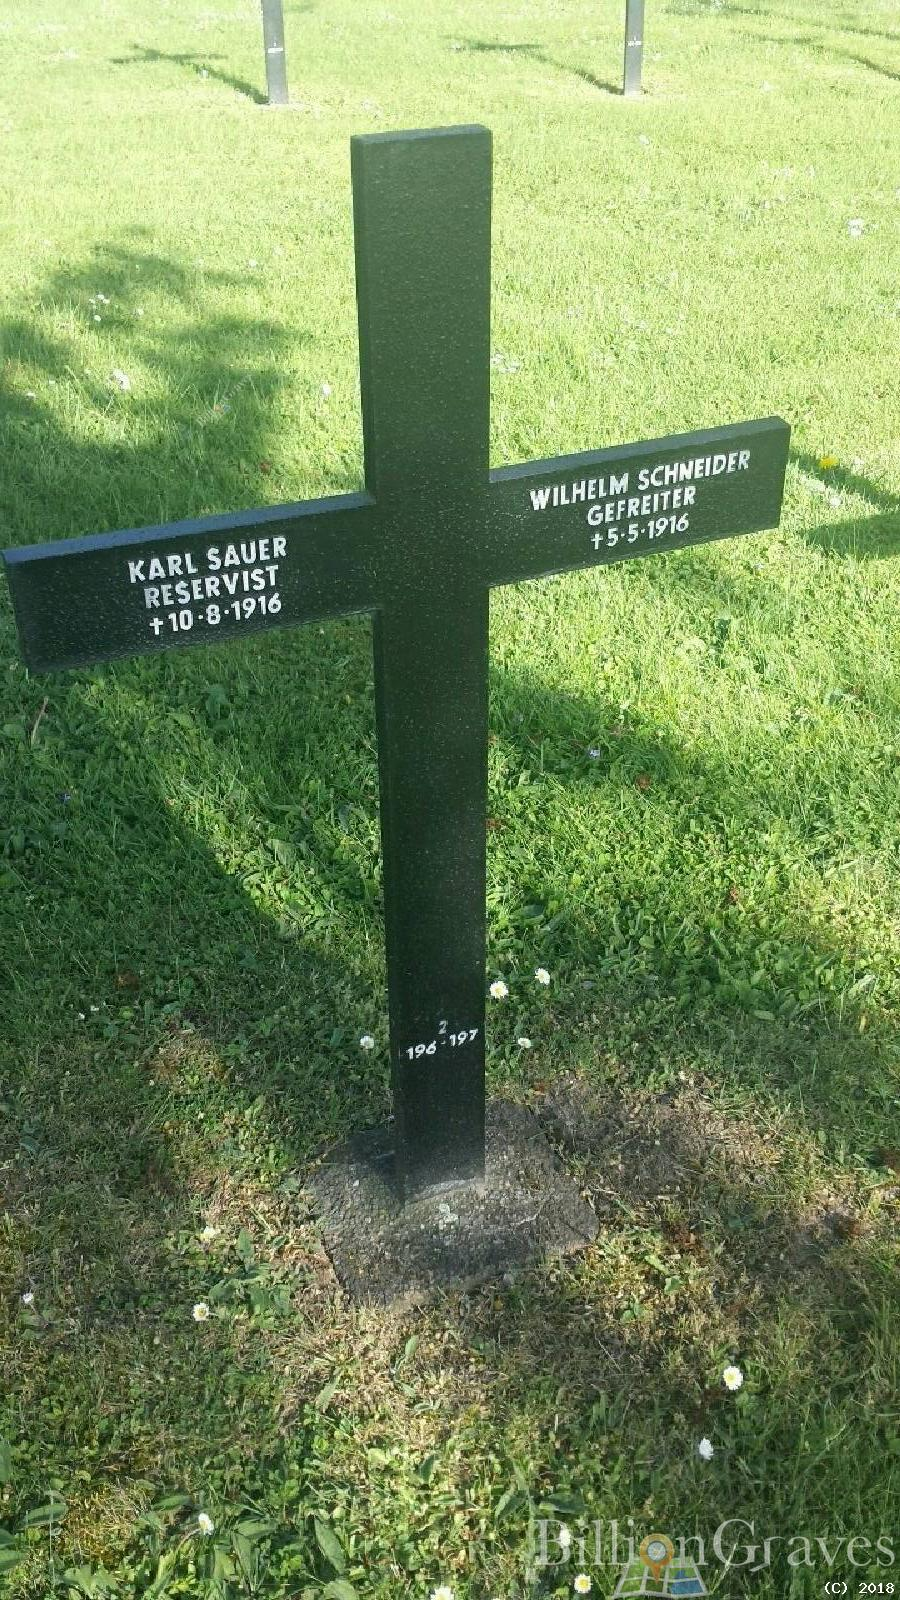upright: (5, 123, 784, 1197)
